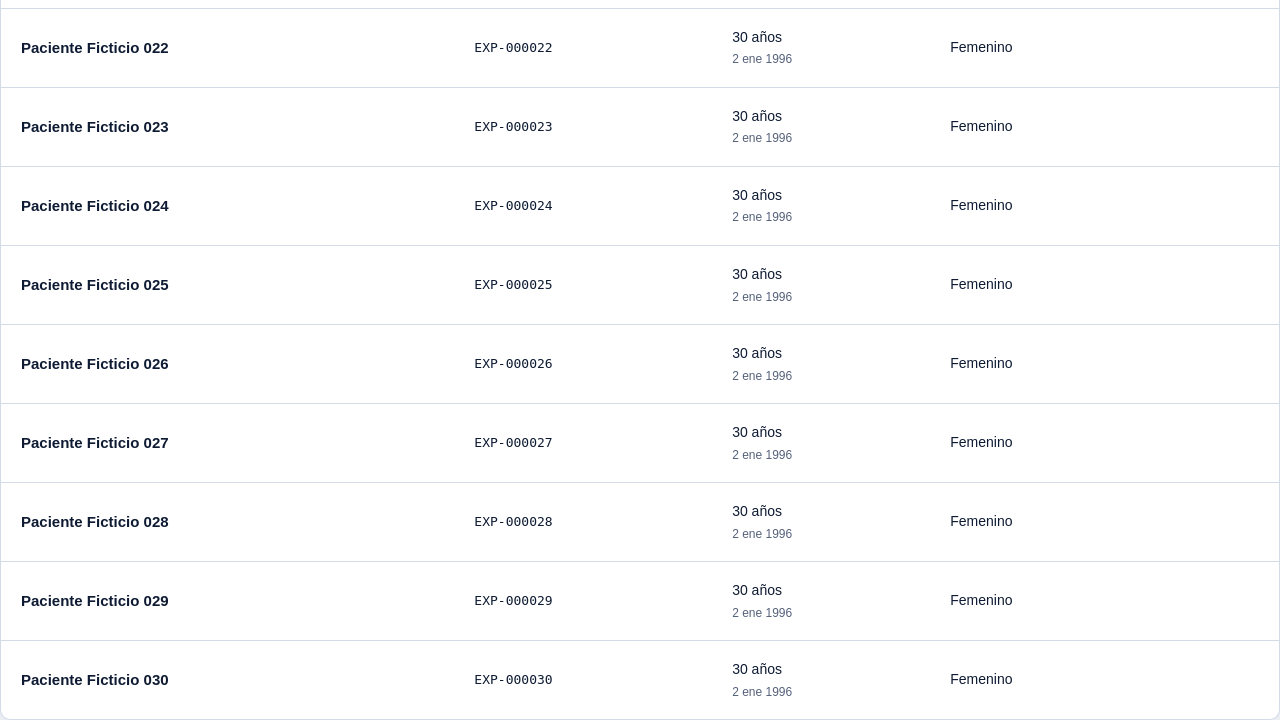
Scenario: Pacientes · tabla (obs. 15) › elegir un paciente resalta su fila y trae la ficha a la vista
The width and height of the screenshot is (1280, 720).
(page scrolled)
Click the button with aria-label "Abrir ficha de Paciente Ficticio 030" at (95, 680), box [21,668,169,692]
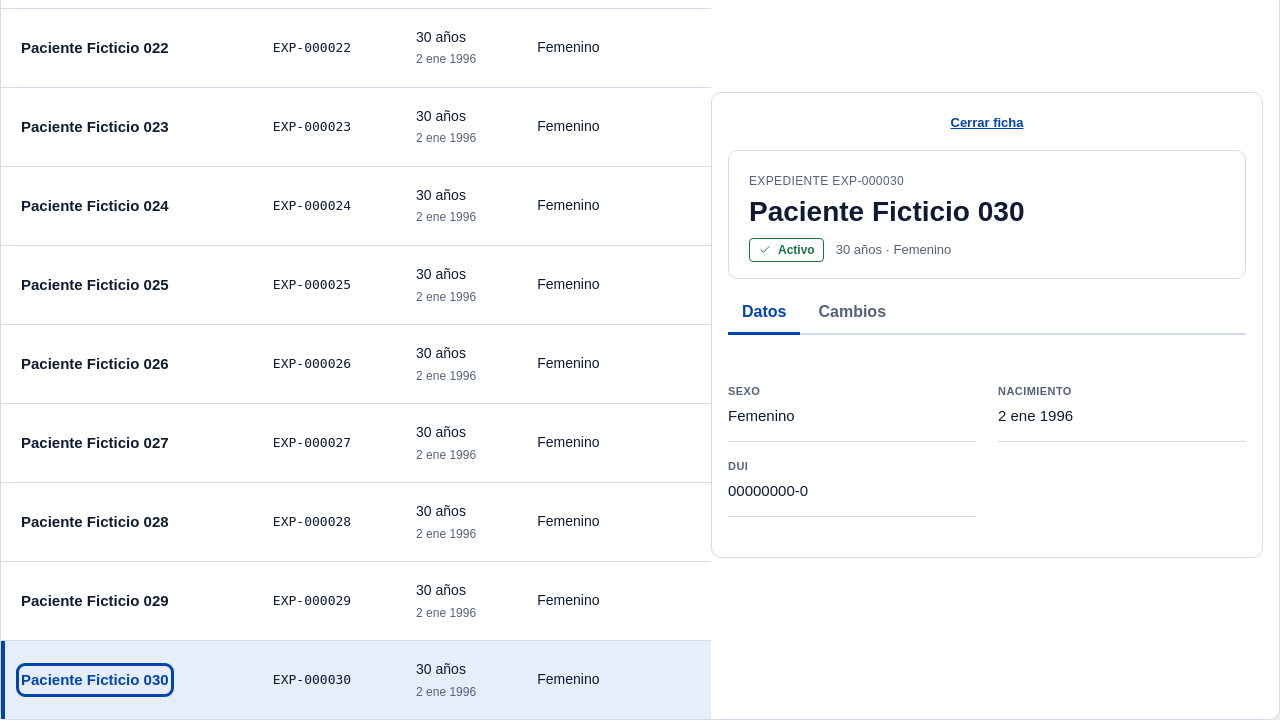
Expected: the element named "Ficha de paciente" is shown, [711,92,1263,559]
